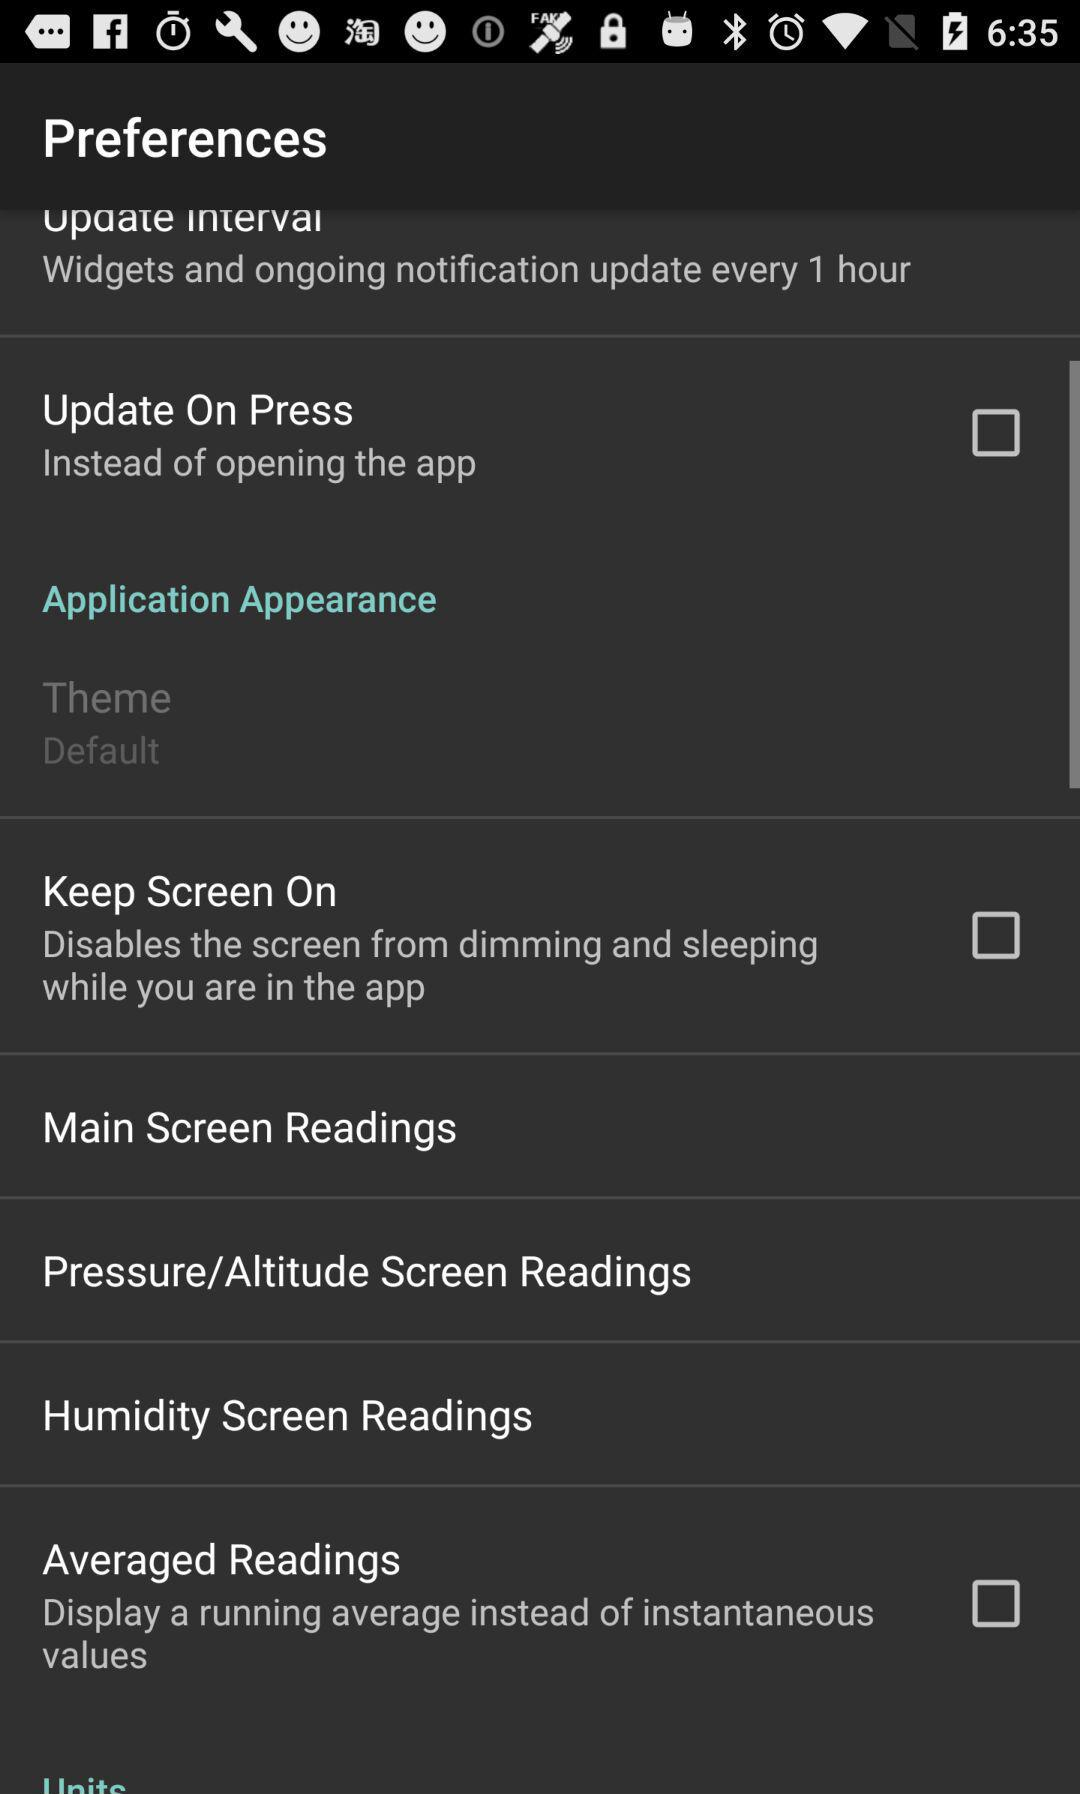CheckedTextView: (971, 1577, 1022, 1629), (970, 910, 1021, 961), (970, 407, 1021, 459)
Text: (44, 928, 817, 1008), (42, 1597, 874, 1670), (44, 254, 912, 292), (44, 1255, 691, 1297), (45, 1398, 532, 1442), (44, 1110, 457, 1153), (44, 447, 477, 484), (44, 1542, 401, 1584), (42, 584, 438, 621), (44, 393, 354, 434), (45, 874, 337, 916), (45, 117, 328, 159), (45, 210, 322, 241), (42, 680, 172, 716), (45, 736, 161, 768)
Toolbar: (1, 65, 1080, 208)
UpperTaskBar: (1, 1, 1080, 64)
